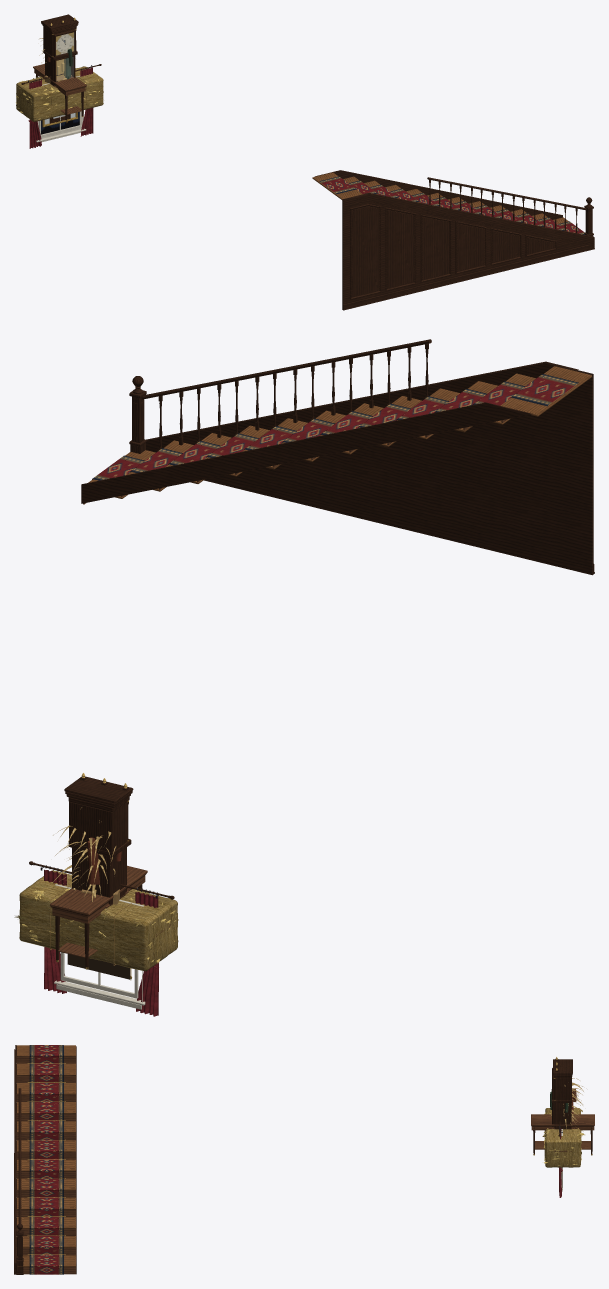
Rendered from props_hall.glb.
3 views of the same model, one above another, from view 1: azimuth 30°, elevation 25°; view 2: azimuth 150°, elevation 25°; view 3: azimuth 270°, elevation 25° (orthographic). The views are drawn at different scales.
Visible parts, largest first — view 1: Staircase, HayBale, GrandfatherClock, Window_120x130, Table_ConsoleHall; view 2: Staircase, HayBale, GrandfatherClock, Window_120x130, Table_ConsoleHall, CornStalks; view 3: Staircase, HayBale, GrandfatherClock, Table_ConsoleHall.
Part boxes in pixels (left/top/right/bottom): Staircase: left=312, top=170, right=594, bottom=310; HayBale: left=16, top=66, right=103, bottom=121; GrandfatherClock: left=41, top=14, right=78, bottom=85; Window_120x130: left=21, top=64, right=101, bottom=148; Table_ConsoleHall: left=33, top=64, right=86, bottom=120; Staircase: left=81, top=339, right=594, bottom=575; HayBale: left=14, top=870, right=178, bottom=971; GrandfatherClock: left=64, top=773, right=133, bottom=905; Window_120x130: left=29, top=861, right=174, bottom=1016; Table_ConsoleHall: left=50, top=865, right=147, bottom=969; CornStalks: left=52, top=807, right=116, bottom=901; Staircase: left=14, top=1045, right=76, bottom=1274; HayBale: left=542, top=1108, right=584, bottom=1167; GrandfatherClock: left=551, top=1057, right=572, bottom=1129; Table_ConsoleHall: left=531, top=1114, right=594, bottom=1155.
Bounding box in the file's own units: 8.46 × 3.88 × 14.52.
Materials: 56 (41 with a texture image).
